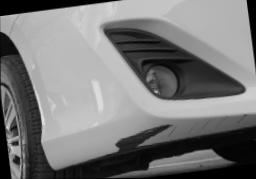Bumper: (102, 106, 255, 156)
